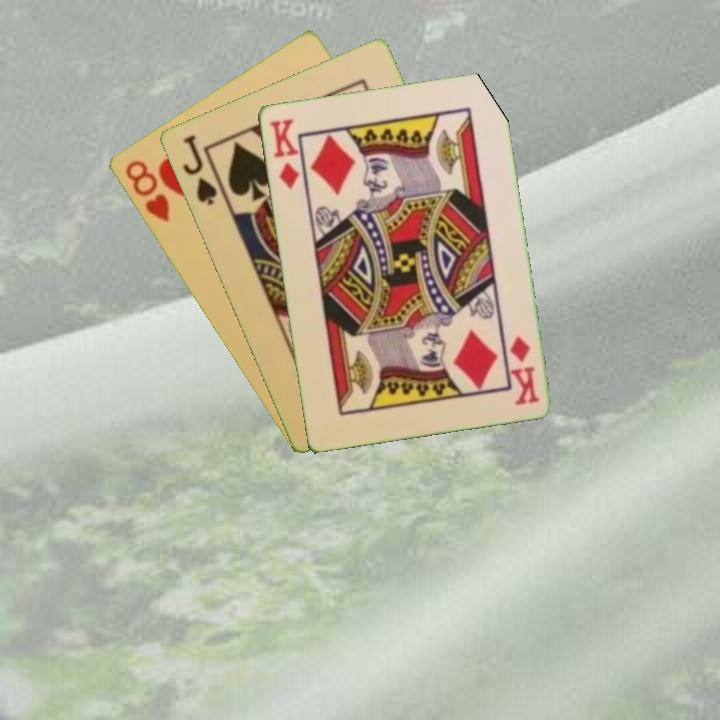8h: (121, 156, 172, 225)
Js: (178, 131, 220, 209)
Kd: (266, 115, 302, 192), (506, 331, 542, 408)
